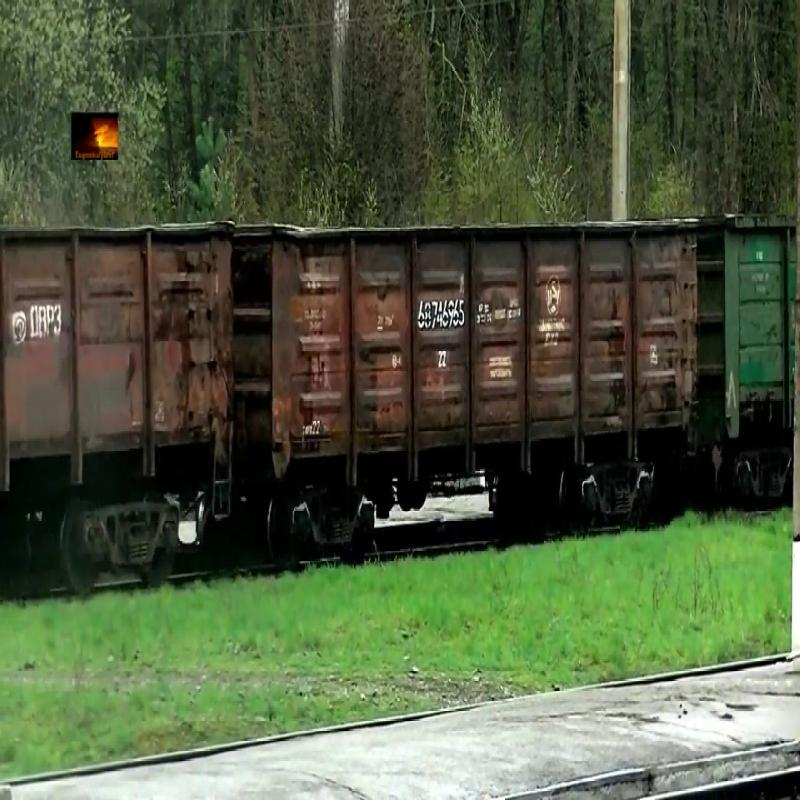train: (234, 217, 700, 477), (1, 224, 234, 495), (702, 215, 795, 455)
